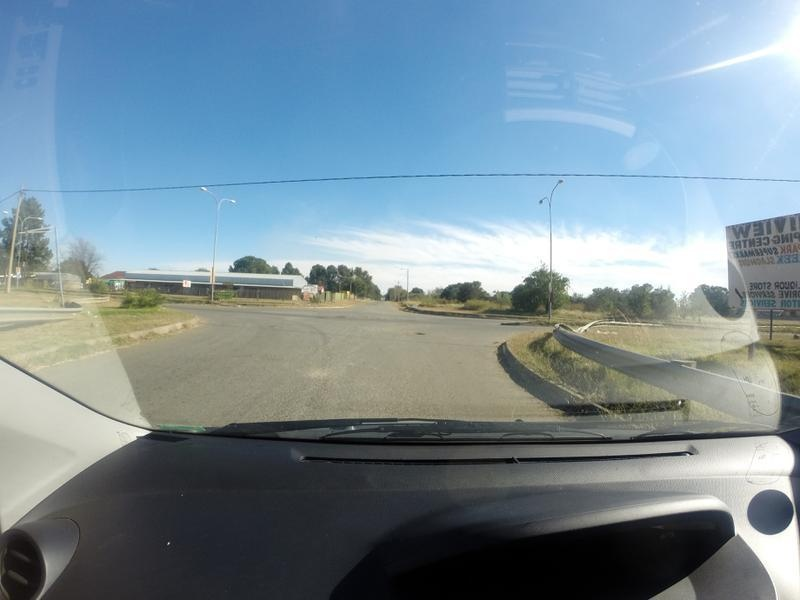pothole: (397, 326, 426, 339)
